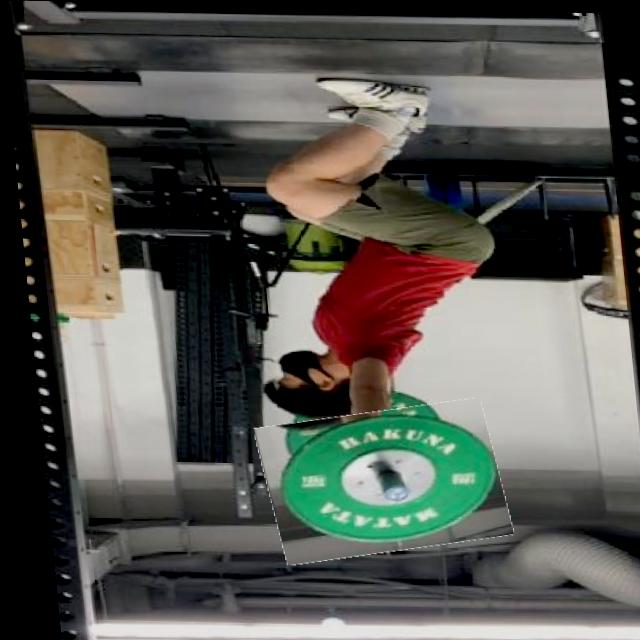barbell: (249, 401, 502, 561)
